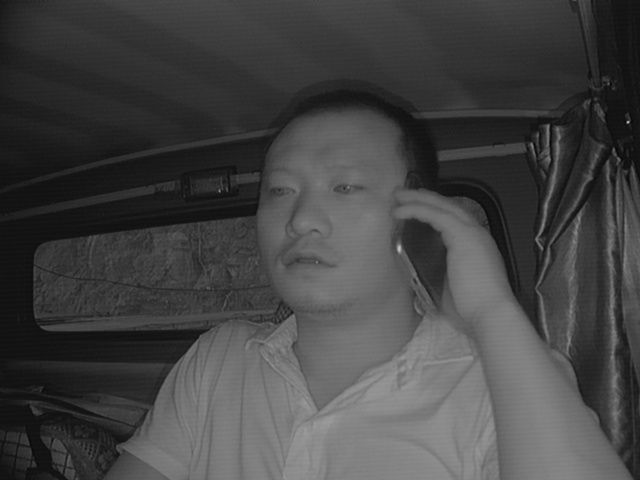hand: (392, 186, 508, 329)
